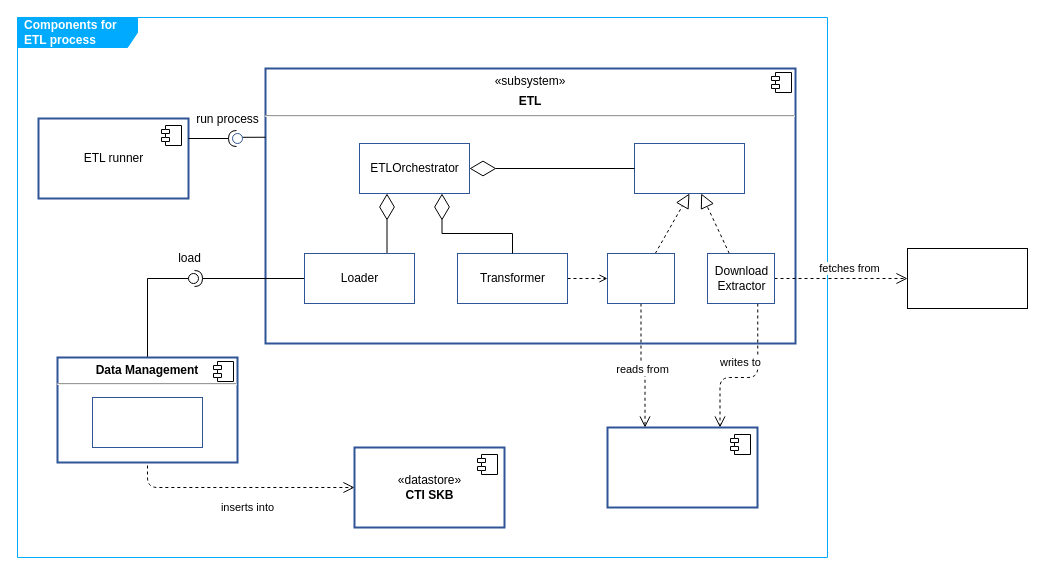
Some shapes in this 1045 by 575 pixel diagram are drawn without their labels. Here are the shapes that lost their labels. From the top down, the box of each, then its label:
(634, 142, 744, 194): «interface» Extractor
(606, 252, 674, 304): STIX Extractor
(906, 248, 1028, 308): External datasource STIX2.1
(92, 396, 202, 448): DBManager
(606, 426, 758, 508): «File system folder» STIX datasets
